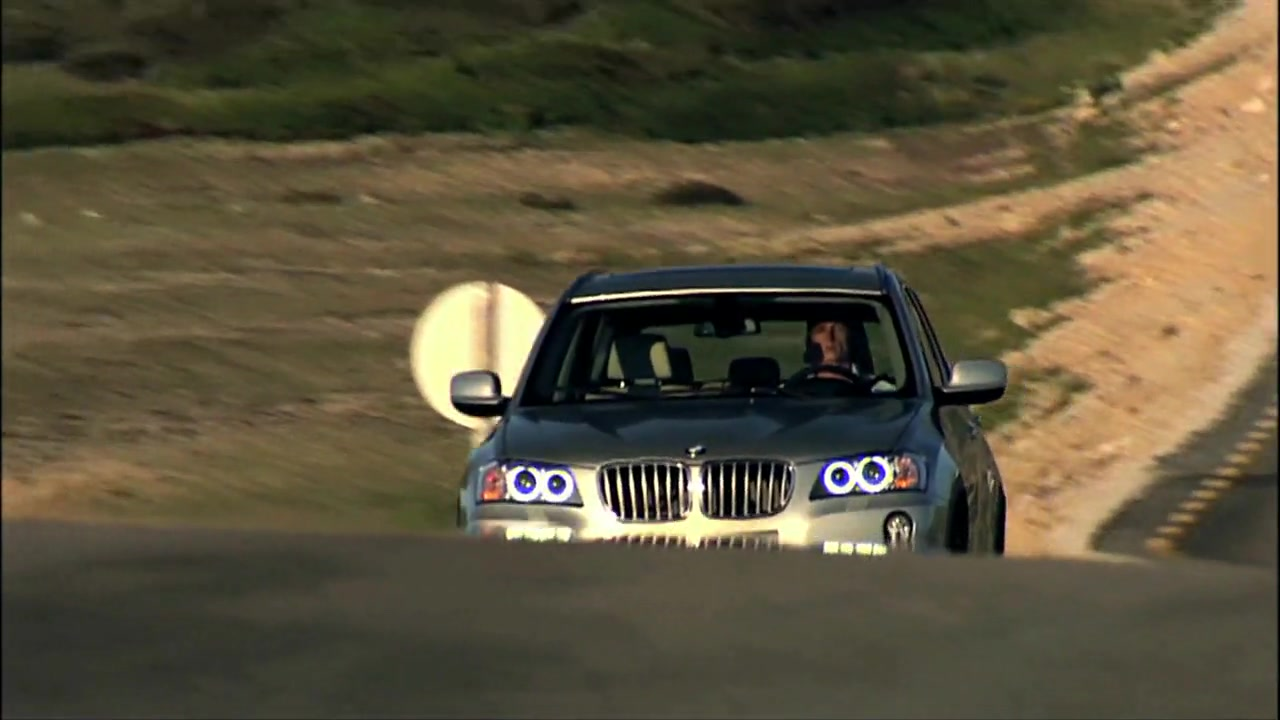car: (450, 265, 1020, 560)
